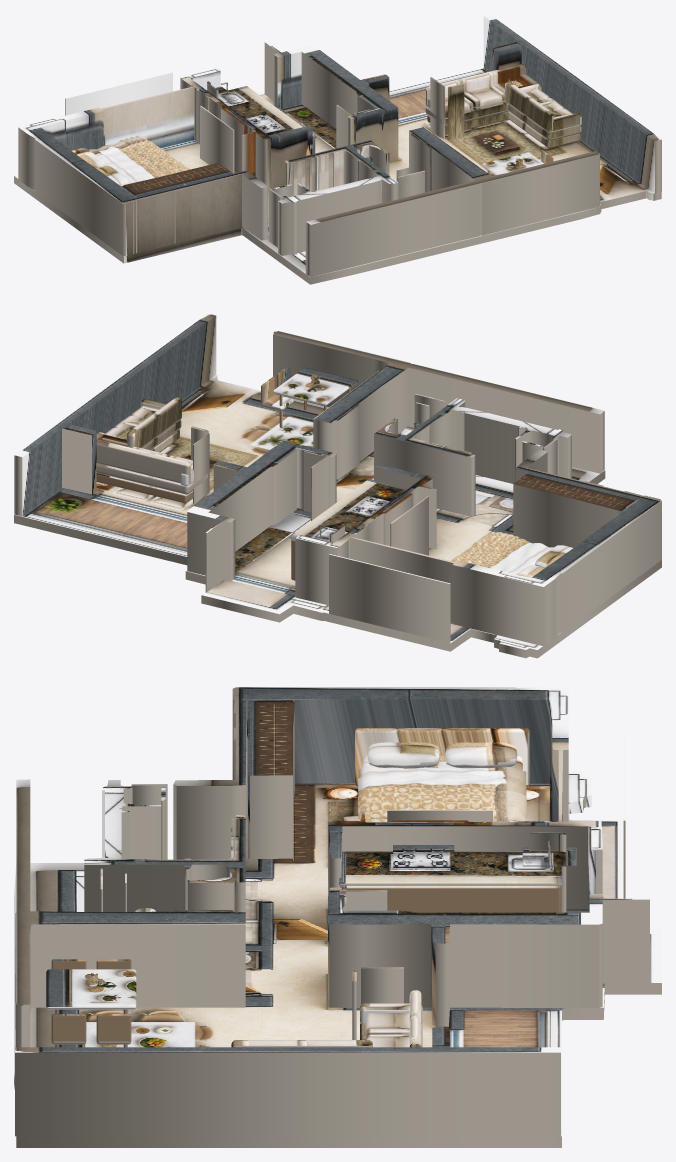
Rendered from p4-02-u01-0112-image-model.glb.
3 views of the same model, one above another, from view 1: azimuth 30°, elevation 25°; view 2: azimuth 150°, elevation 25°; view 3: azimuth 270°, elevation 25° (orthographic). The views are drawn at different scales.
Parts seen in each view (by area): view 1: Partition walls, Apartment floor, Draped bed linen, Stone worktop, Sofa back.001, Sofa back, Draped bed linen.001, Marble dining top, Seat cushion.001, Upholstered sofa frame, Upholstered sofa frame.001, Sofa plinth.001 (+1 smaller); view 2: Partition walls, Apartment floor, Stone worktop, Sofa back, Marble dining top, Draped bed linen, Sofa back.001, Upholstered sofa frame, Sofa plinth, Draped bed linen.001; view 3: Partition walls, Apartment floor, Stone worktop, Draped bed linen, Kitchen cabinets, Marble dining top, Upholstered headboard, Draped bed linen.001, Tailored pillow, Tailored pillow.001, Inset cooktop, Sofa back.001 (+5 smaller).
Boxes of the visible parts, x1,y1,x2,y2 form: Partition walls: [18, 14, 661, 276]; Apartment floor: [14, 68, 661, 284]; Draped bed linen: [88, 137, 189, 183]; Stone worktop: [224, 86, 316, 139]; Sofa back.001: [505, 81, 553, 132]; Sofa back: [426, 64, 525, 105]; Draped bed linen.001: [119, 135, 185, 175]; Marble dining top: [482, 152, 543, 175]; Seat cushion.001: [464, 85, 505, 108]; Upholstered sofa frame: [425, 101, 508, 126]; Upholstered sofa frame.001: [508, 104, 581, 140]; Sofa plinth.001: [508, 111, 580, 148]; Partition walls: [14, 313, 661, 646]; Apartment floor: [14, 375, 661, 658]; Stone worktop: [290, 479, 407, 539]; Sofa back: [96, 439, 190, 483]; Marble dining top: [273, 367, 357, 405]; Draped bed linen: [451, 532, 553, 574]; Sofa back.001: [127, 397, 181, 447]; Upholstered sofa frame: [96, 463, 207, 494]; Sofa plinth: [96, 473, 192, 503]; Draped bed linen.001: [453, 532, 519, 565]; Partition walls: [15, 687, 649, 1136]; Apartment floor: [14, 771, 661, 1147]; Stone worktop: [339, 851, 561, 885]; Draped bed linen: [358, 766, 526, 821]; Kitchen cabinets: [340, 885, 560, 912]; Marble dining top: [46, 969, 136, 1009]; Upholstered headboard: [355, 728, 529, 786]; Draped bed linen.001: [358, 790, 526, 814]; Tailored pillow: [367, 742, 439, 768]; Tailored pillow.001: [444, 742, 517, 768]; Inset cooktop: [393, 845, 454, 867]; Sofa back.001: [231, 1040, 372, 1047].
Bounding box in the file's own units: 10.72 × 1.3 × 8.02.
Materials: 14 (3 with a texture image).
